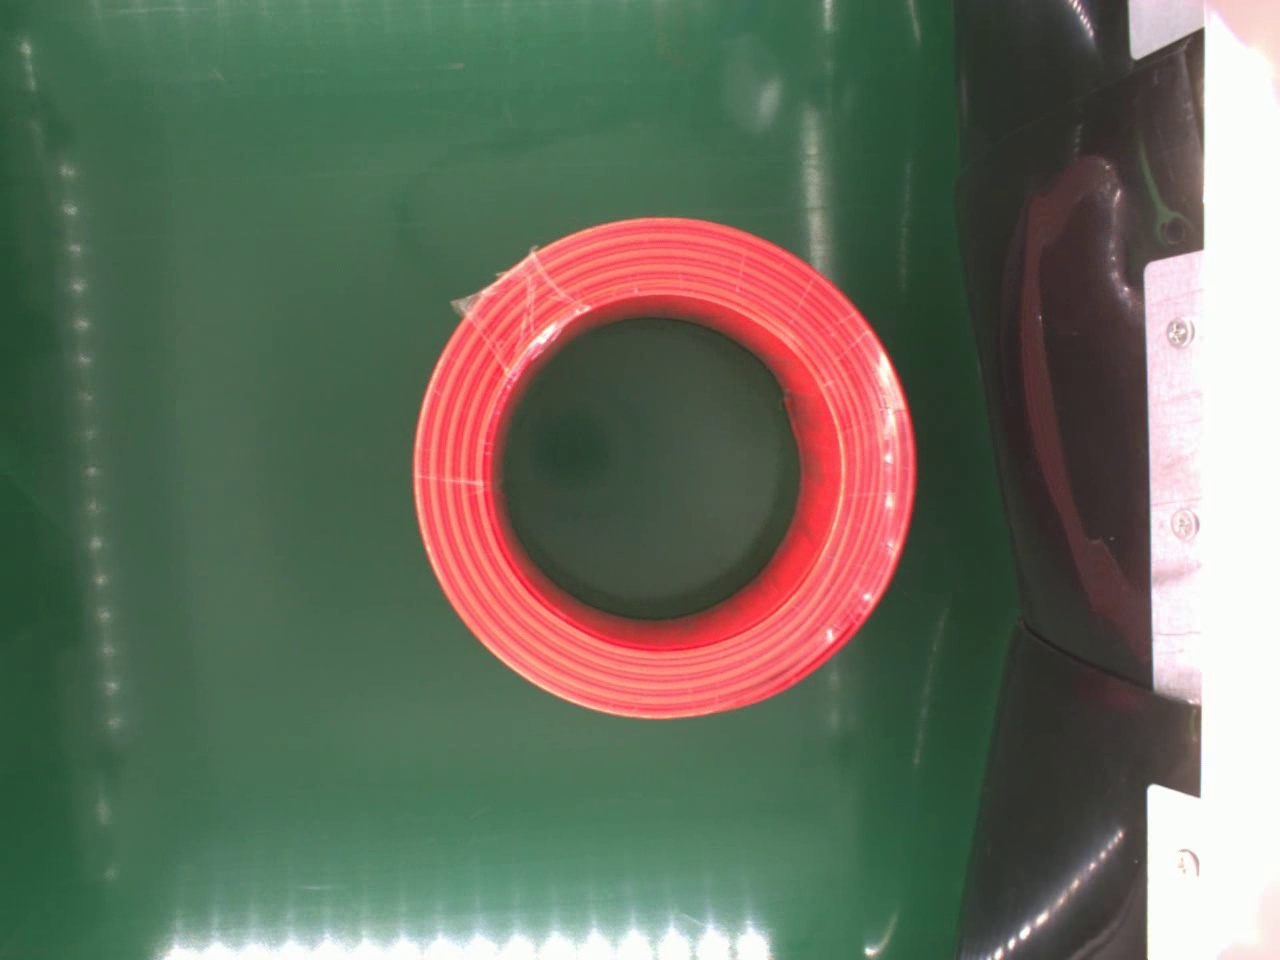red: (407, 205, 928, 723)
